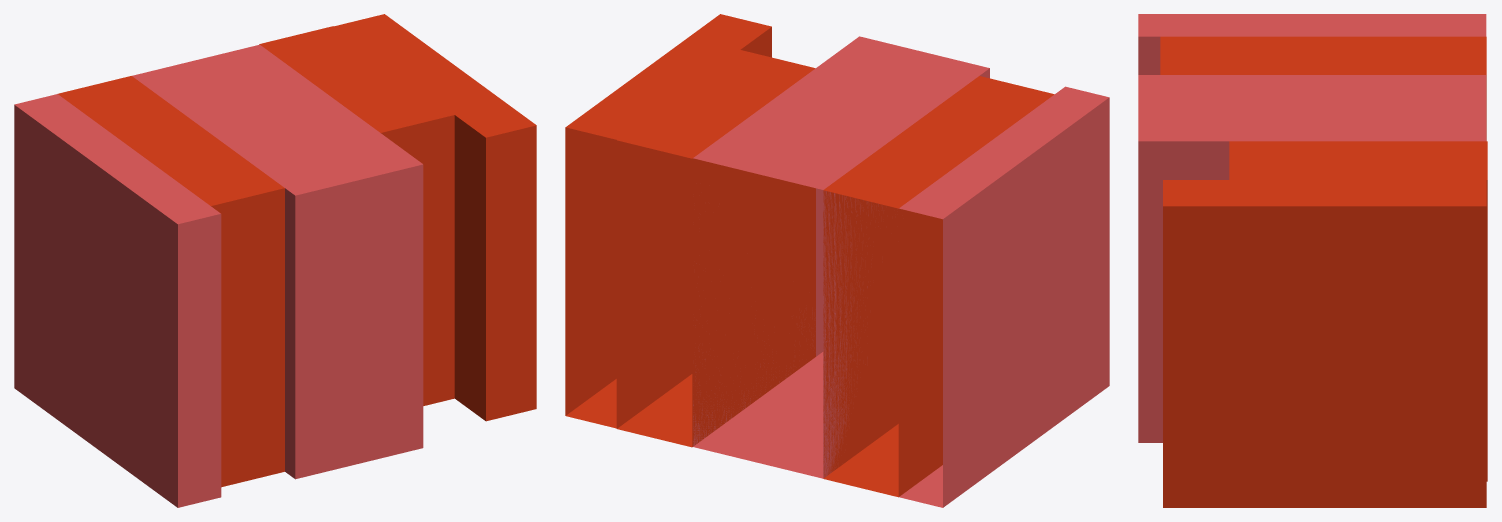
The model's file is RG_Dungeon_Books-05.fbx.
3 renders of one model, left to right at view 1: azimuth 30°, elevation 25°; view 2: azimuth 150°, elevation 25°; view 3: azimuth 270°, elevation 25°, orthographic. The views are drawn at different scales.
Parts seen in each view (by area): view 1: RG_Dungeon_Books-05; view 2: RG_Dungeon_Books-05; view 3: RG_Dungeon_Books-05.
Boxes of the visible parts, box(x1,y1,x2,y2) form: RG_Dungeon_Books-05: box(14, 14, 536, 507); RG_Dungeon_Books-05: box(565, 14, 1109, 507); RG_Dungeon_Books-05: box(1138, 14, 1487, 507).
Bounding box in the file's own units: 2.23 × 1.63 × 1.71.
